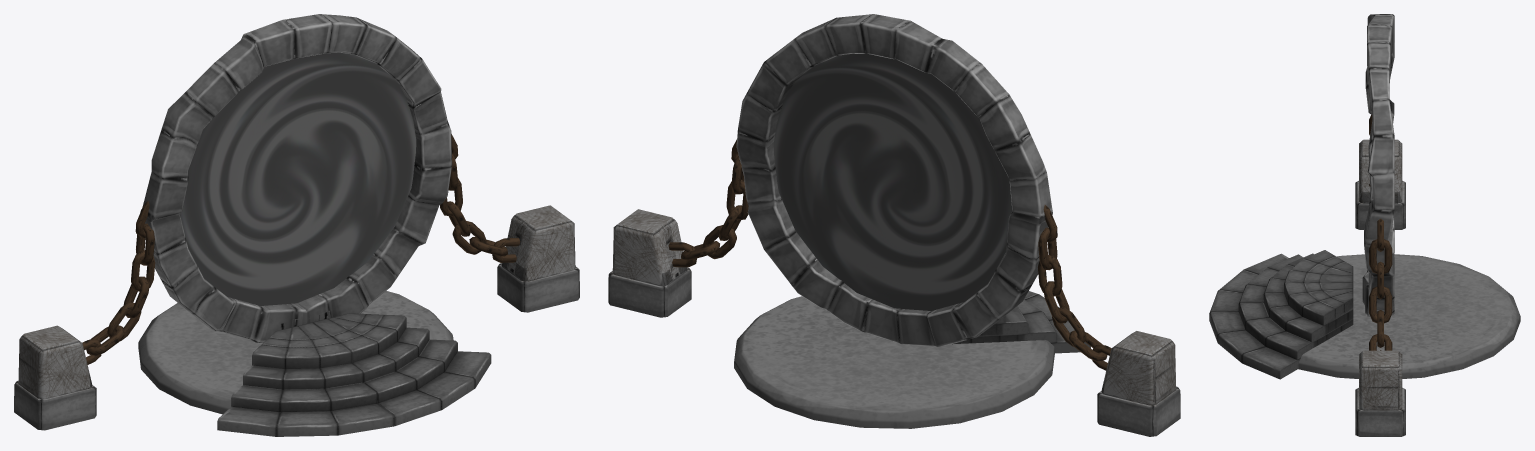
File: BD_Portal.fbx
3 views of the same model, side by side, from view 1: azimuth 30°, elevation 25°; view 2: azimuth 150°, elevation 25°; view 3: azimuth 270°, elevation 25° (orthographic). The views are drawn at different scales.
Parts seen in each view (by area): view 1: BD_Portal1, BD_Portal_Magic1; view 2: BD_Portal1, BD_Portal_Magic1; view 3: BD_Portal1.
Part boxes in pixels (x1,y1,x2,y2): BD_Portal1: [14, 14, 579, 436]; BD_Portal_Magic1: [180, 52, 416, 305]; BD_Portal1: [608, 14, 1180, 436]; BD_Portal_Magic1: [773, 53, 1012, 310]; BD_Portal1: [1209, 14, 1520, 436].
Size of the model in its own units: 14.18 by 8.35 by 8.04.
